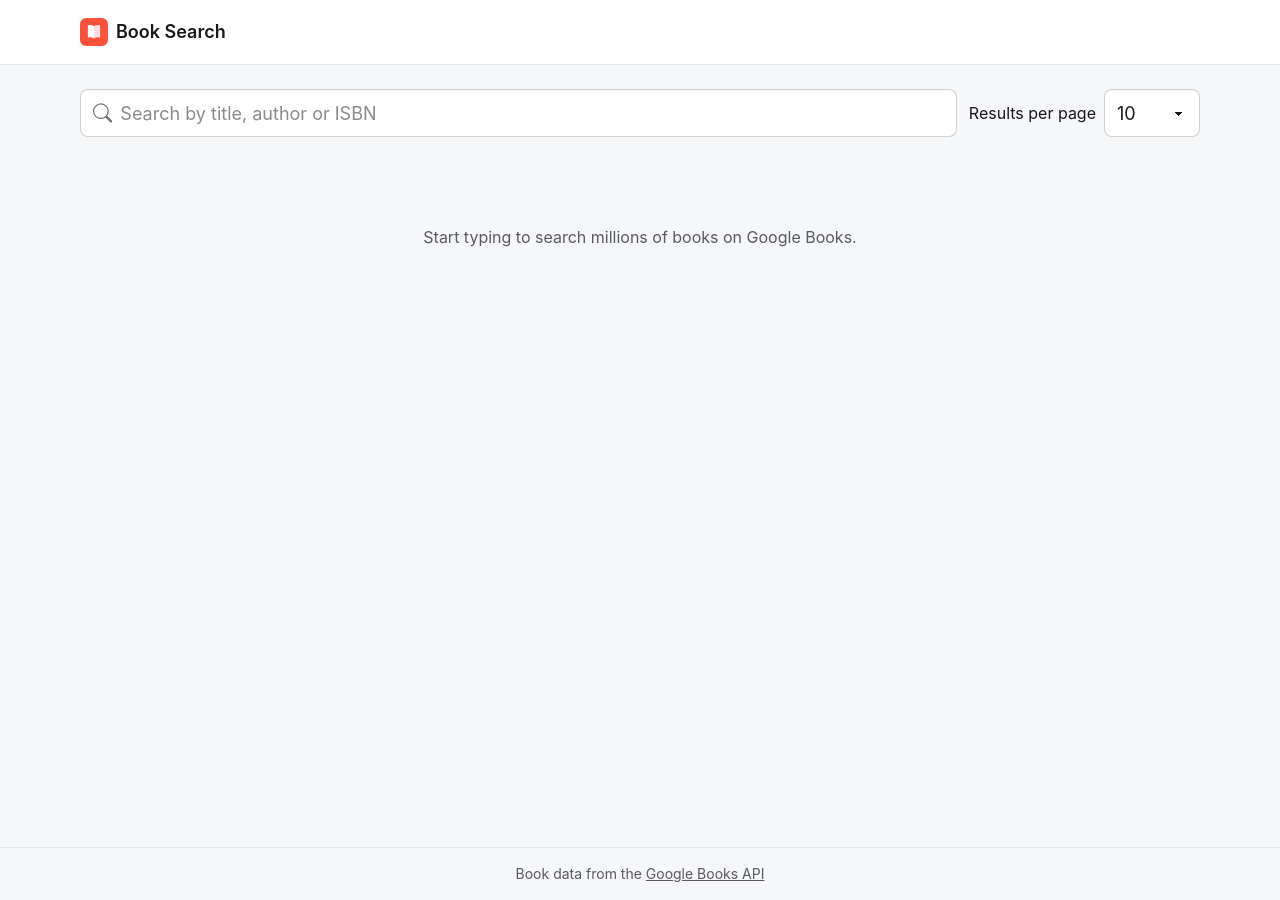
Search page › live search › ignores spaces around the text
The image size is (1280, 900).
Type "  dune  " into the search field named "Search books".
click(532, 113); type("  dune  ")  # box [120,90,944,136]
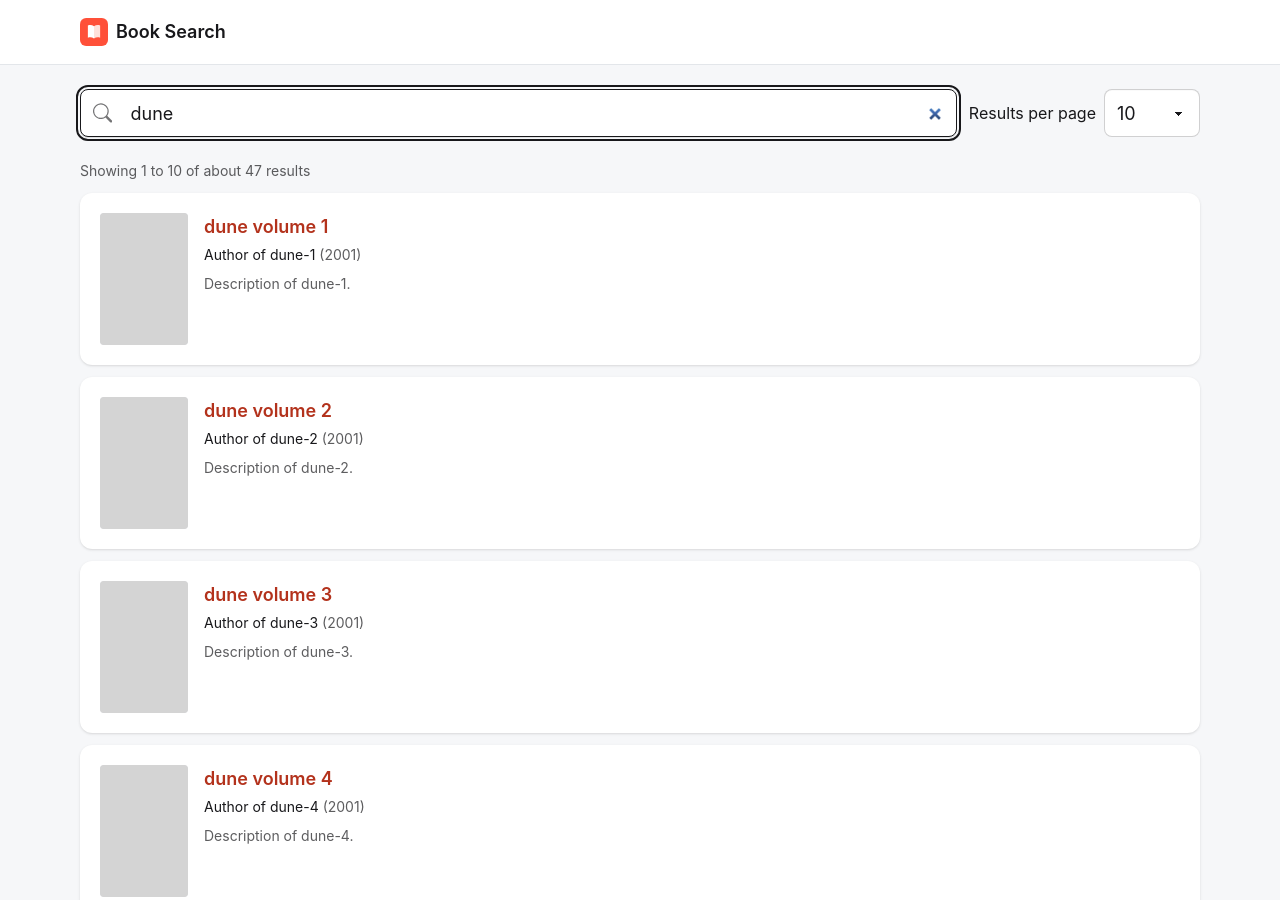
Expected: the link "dune volume 1" is shown, [204,216,328,237]
